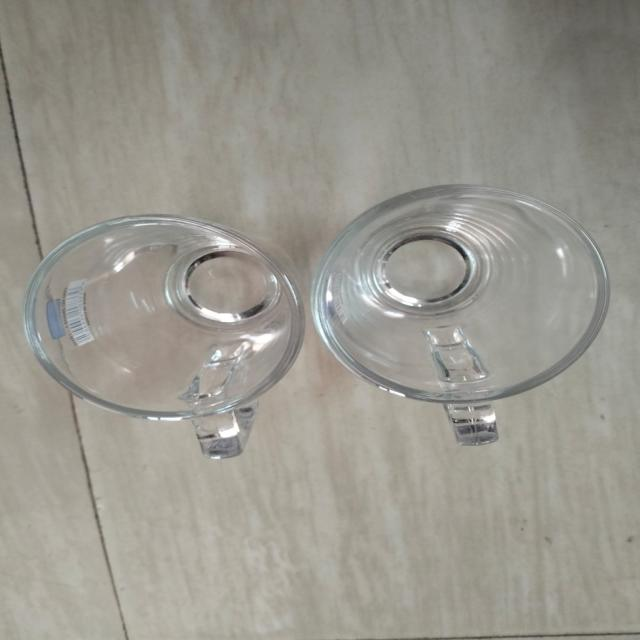glass-VX4N: (307, 175, 621, 448), (20, 211, 309, 461)
